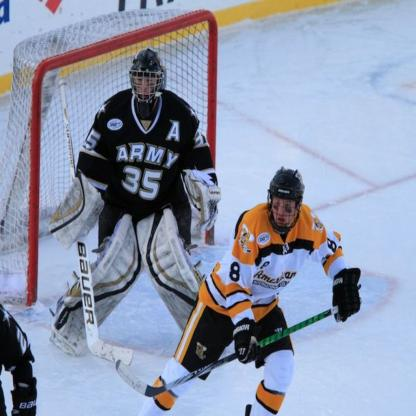Helmet: (266, 166, 303, 236), (124, 50, 160, 102)
